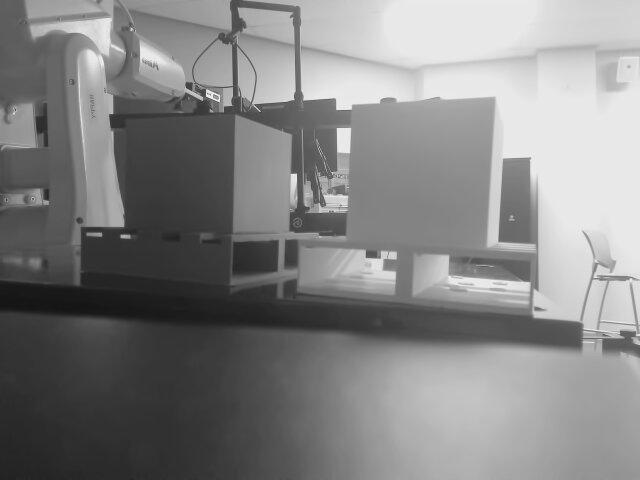grey pallet: (66, 111, 314, 292)
white pallet: (291, 93, 558, 323)
